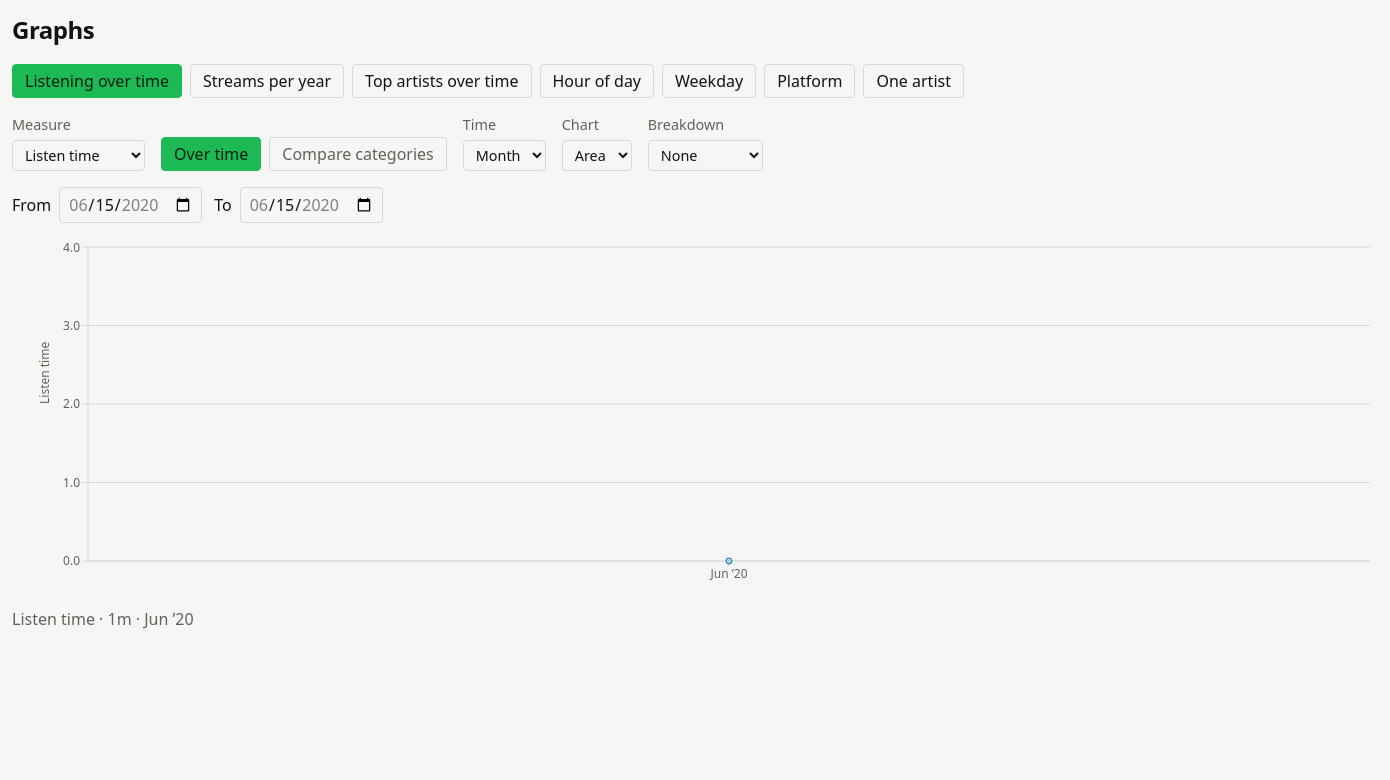
Test case: GraphsPage › restores the time chart after a weekday breakdown
Expected: the heading "Graphs" is shown, [12, 13, 94, 46]
Expected: the button "Listening over time" is shown, [12, 64, 182, 98]
Select "Weekday" in the dropdown labelled "Breakdown" at coordinates (705, 155), box [648, 140, 763, 171]
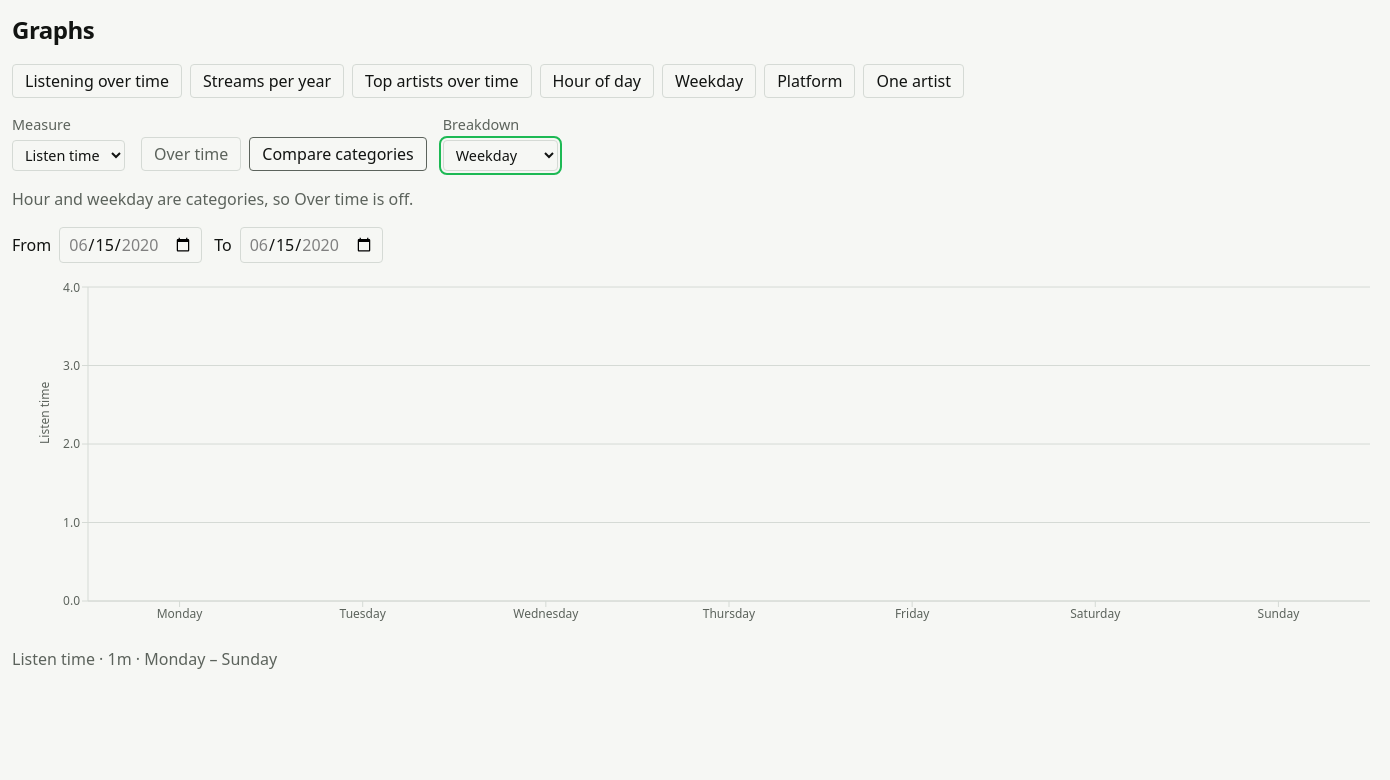
Expected: the text "Hour and weekday are categories, so Over time is off." is shown, [12, 187, 413, 211]
Click the button "Over time" at coordinates (191, 154), box [141, 137, 241, 171]
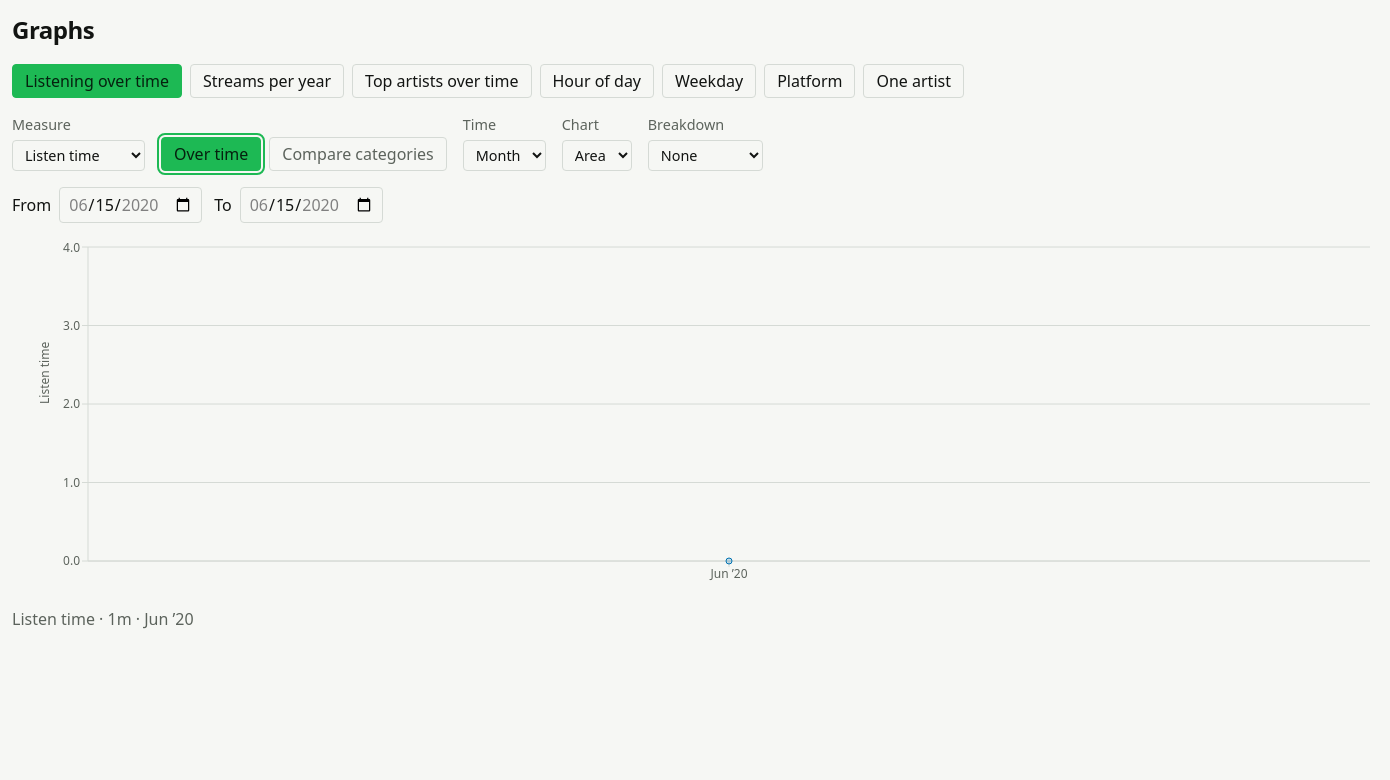
Expected: the text "Hour and weekday" is gone
